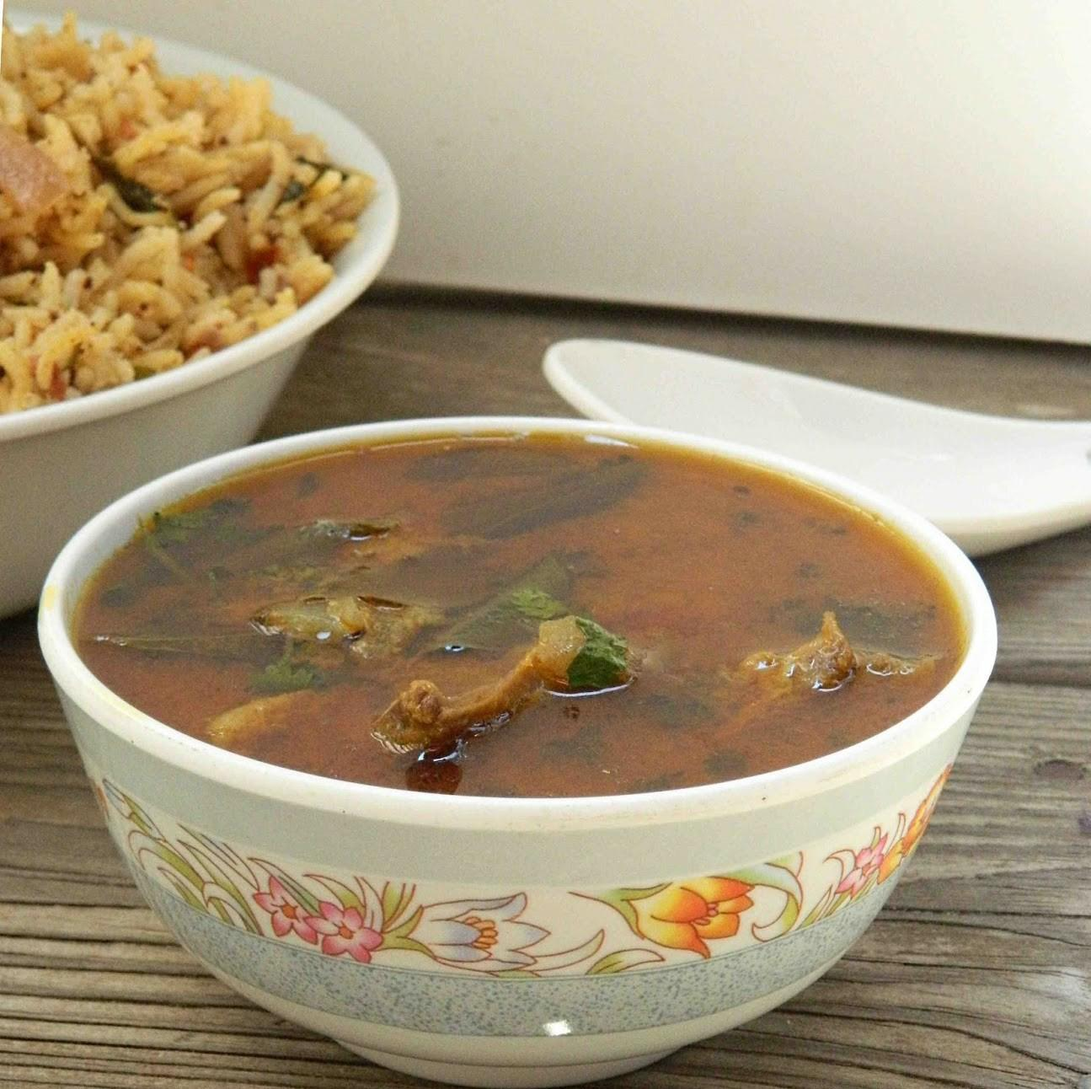Biryani: (0, 9, 372, 416)
MuttonCurry: (74, 441, 964, 800)
